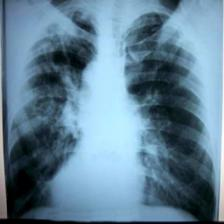tuberculosis: (5, 0, 216, 224)
